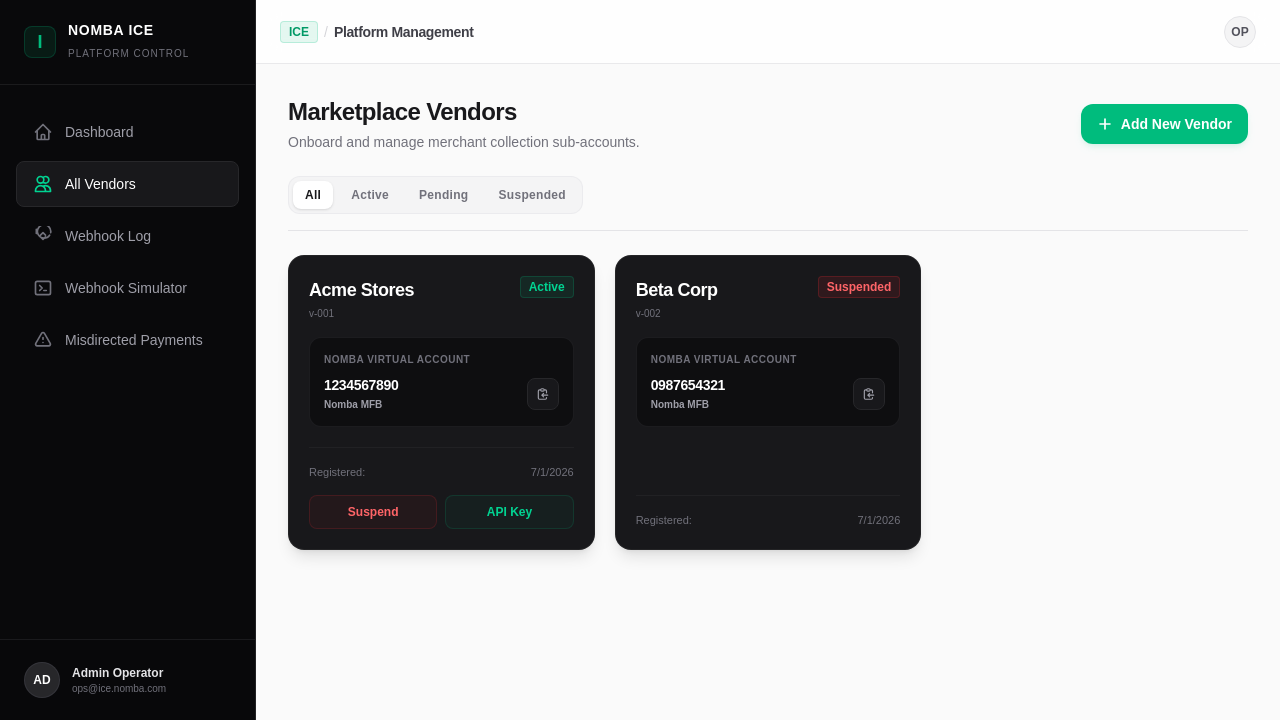
Test case: VendorsIndex Page › opens suspend confirmation modal when suspend is clicked on active vendor
Check: the heading "Acme Stores" is shown, box [309, 276, 414, 304]
Note: Find the Suspend button (only shows for active vendors)
Click the button "Suspend" at (373, 512), box [309, 494, 437, 528]
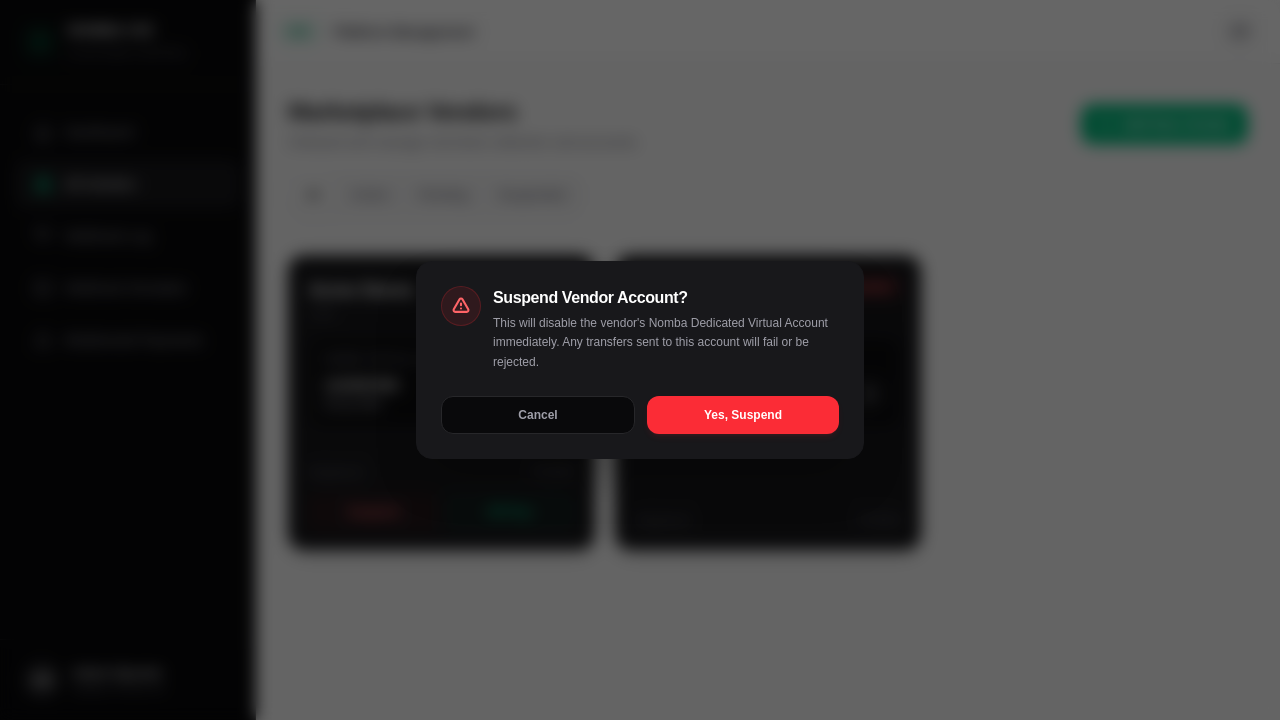
Check: the heading "Suspend Vendor Account?" is shown, box [493, 289, 688, 306]
